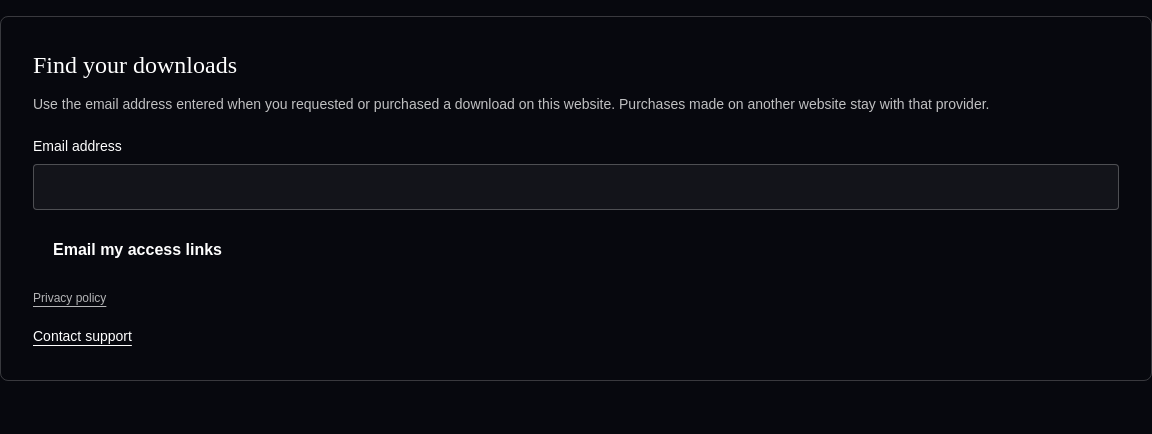
Test: download recovery › preserves the email and reports unavailability without fake success
The width and height of the screenshot is (1152, 434).
Type "reader@example.com" into the field labelled "Email address".
click(576, 187); type("reader@example.com")  # box [33, 164, 1119, 210]
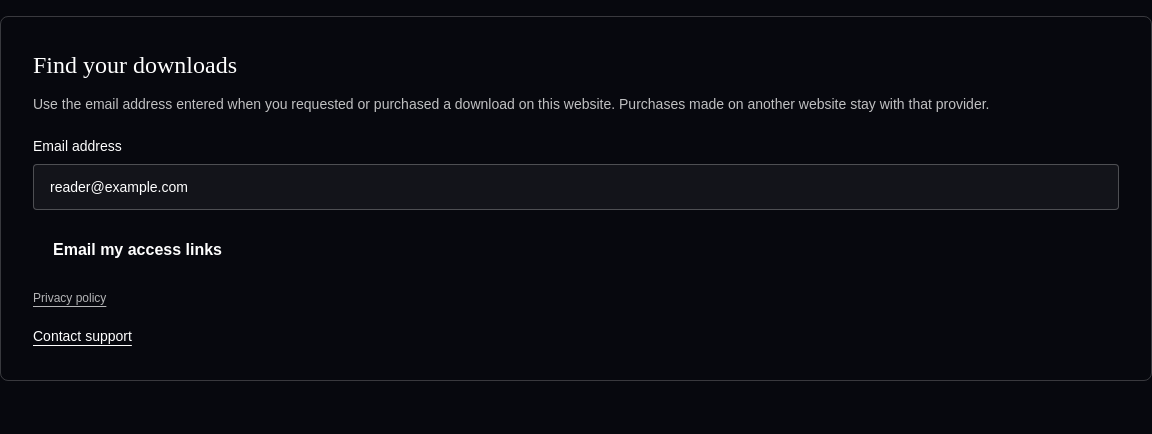
Click the button "Email my access links".
click(138, 250)  # box [33, 226, 242, 274]
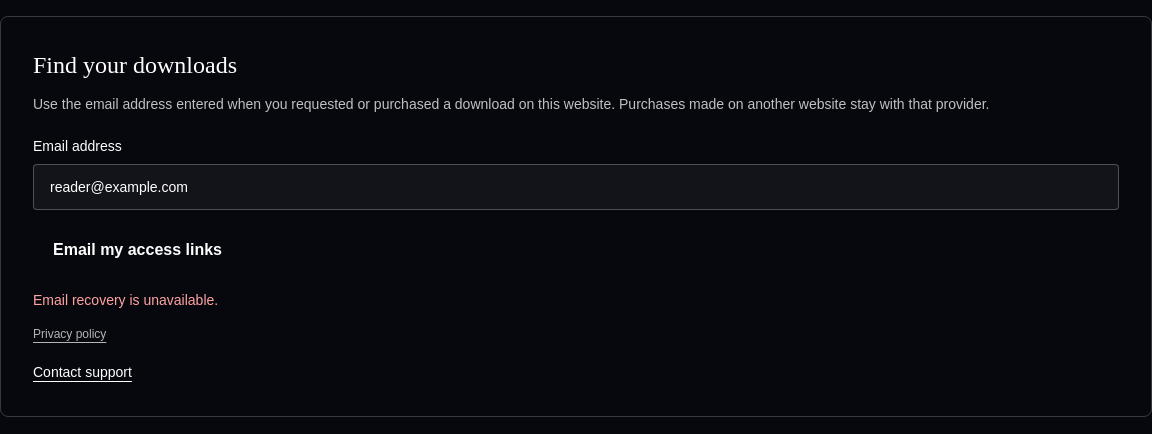
Expected: the message shows "unavailable", [33, 292, 218, 308]
